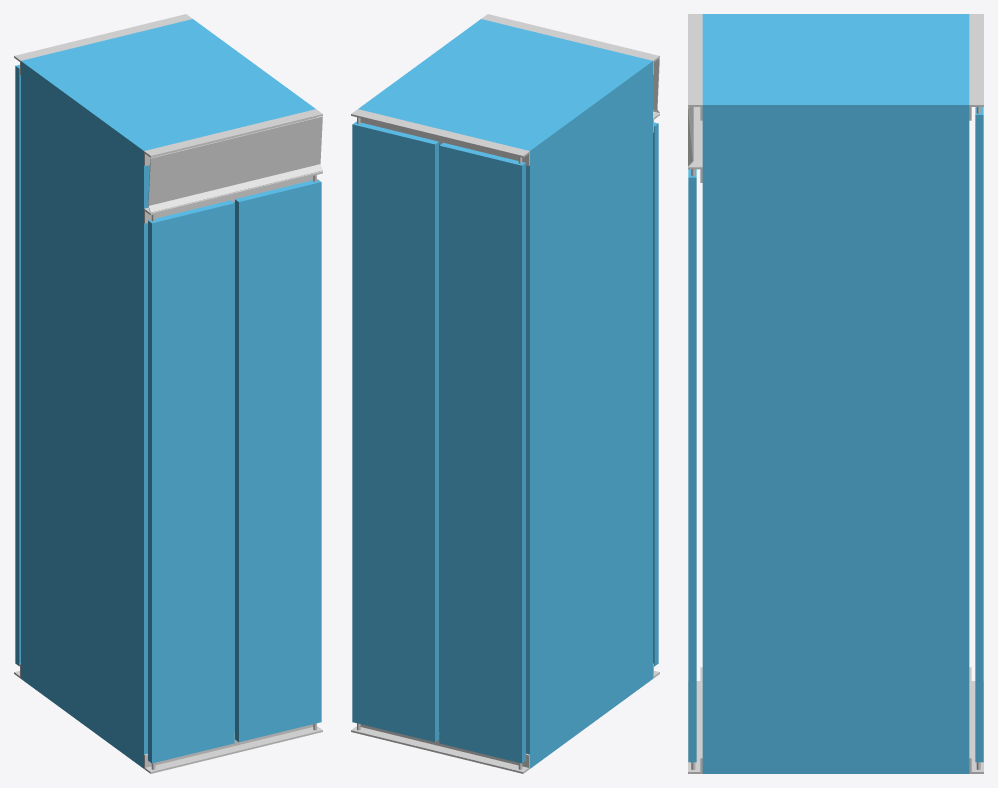
File: pdp6_cabinet_with_indicators.FBX
3 renders of one model, left to right at view 1: azimuth 30°, elevation 25°; view 2: azimuth 150°, elevation 25°; view 3: azimuth 270°, elevation 25°, orthographic. The views are drawn at different scales.
Visible parts, largest first — view 1: Box007, door_l005, door_r005, Plane002, door_r006, plate_bot005, plate_top006, plate_top008, plate_top007; view 2: Box007, door_r006, door_l006, door_l005, plate_top007, plate_bot006, plate_top006; view 3: Box007, door_l006, door_r005, plate_top006, plate_top007, plate_bot005, plate_bot006, plate_top008.
Boxes of the visible parts, x1,y1,x2,y2 form: Box007: (21,19,315,768); door_l005: (148,200,234,763); door_r005: (235,179,321,742); Plane002: (148,116,322,212); door_r006: (15,64,20,666); plate_bot005: (144,724,322,773); plate_top006: (144,109,322,165); plate_top008: (144,171,322,223); plate_top007: (14,14,192,74); Box007: (358,19,652,768); door_r006: (439,142,525,763); door_l006: (352,121,438,742); door_l005: (653,122,658,666); plate_top007: (351,109,529,165); plate_bot006: (351,724,529,773); plate_top006: (481,14,659,74); Box007: (702,14,969,773); door_l006: (975,107,983,762); door_r005: (688,169,696,762); plate_top006: (688,14,702,120); plate_top007: (969,14,983,120); plate_bot005: (688,667,702,773); plate_bot006: (969,667,983,773); plate_top008: (688,107,702,182).
Bounding box in the file's own units: 50 × 68.8 × 172.
